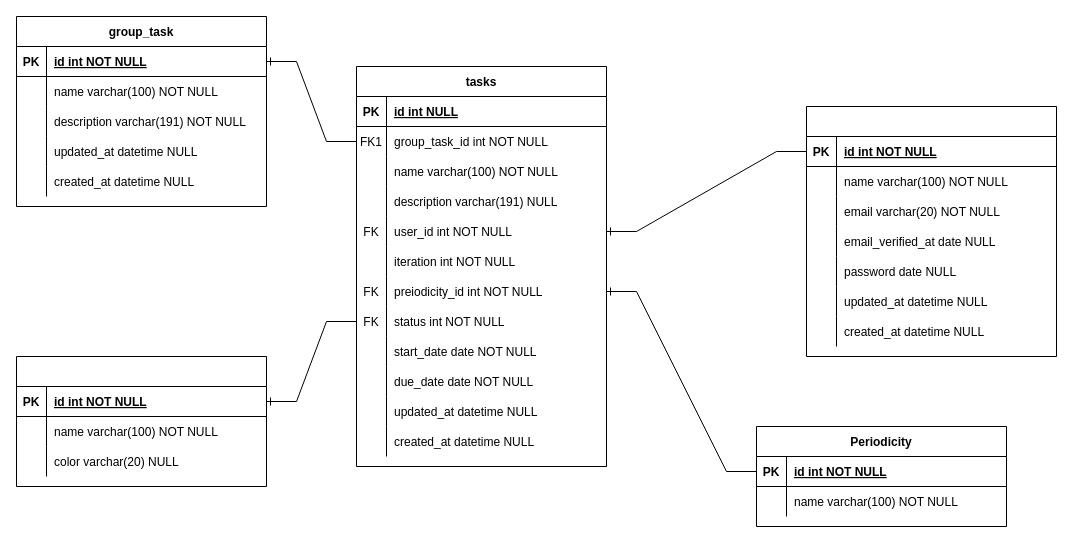
The diagram is 1073 pixels wide and 543 high, and some of its shapes have lost their labels. Here are the shapes that lost their labels. From the top down, the box of each, then its label:
(806, 106, 1056, 356): Users
(16, 356, 266, 486): status
